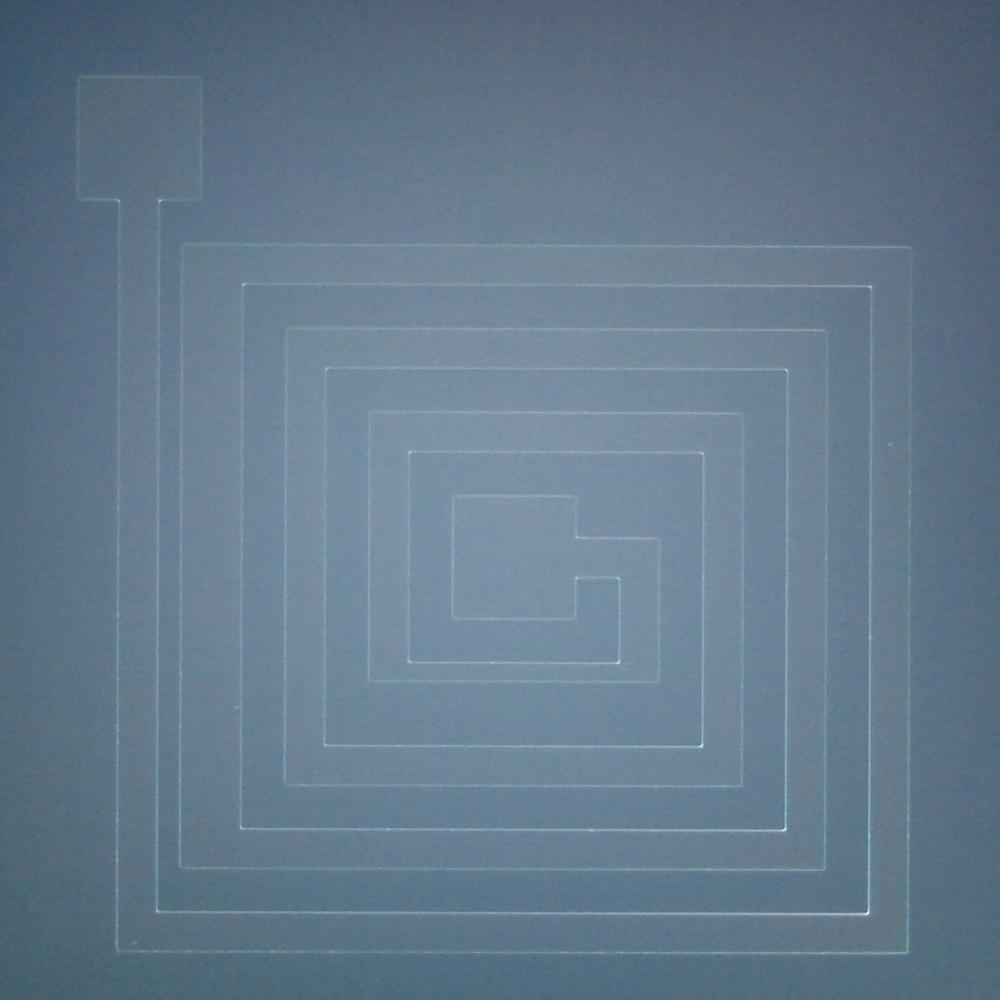dot: (131, 940, 137, 946), (888, 442, 892, 447), (234, 705, 239, 709)
